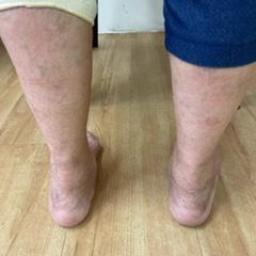Back View -Both Feet-: (22, 107, 246, 241)
